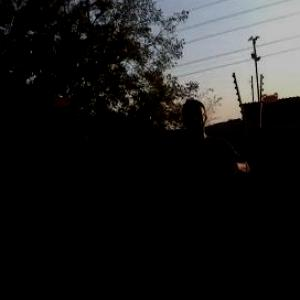follow: (165, 97, 265, 299)
